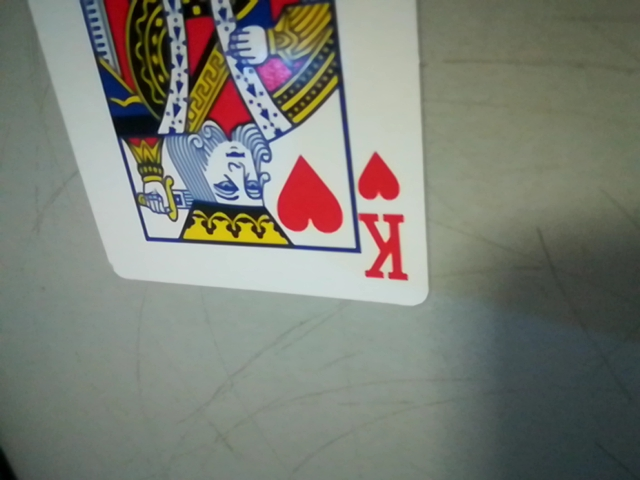hx k: (350, 147, 422, 294)
